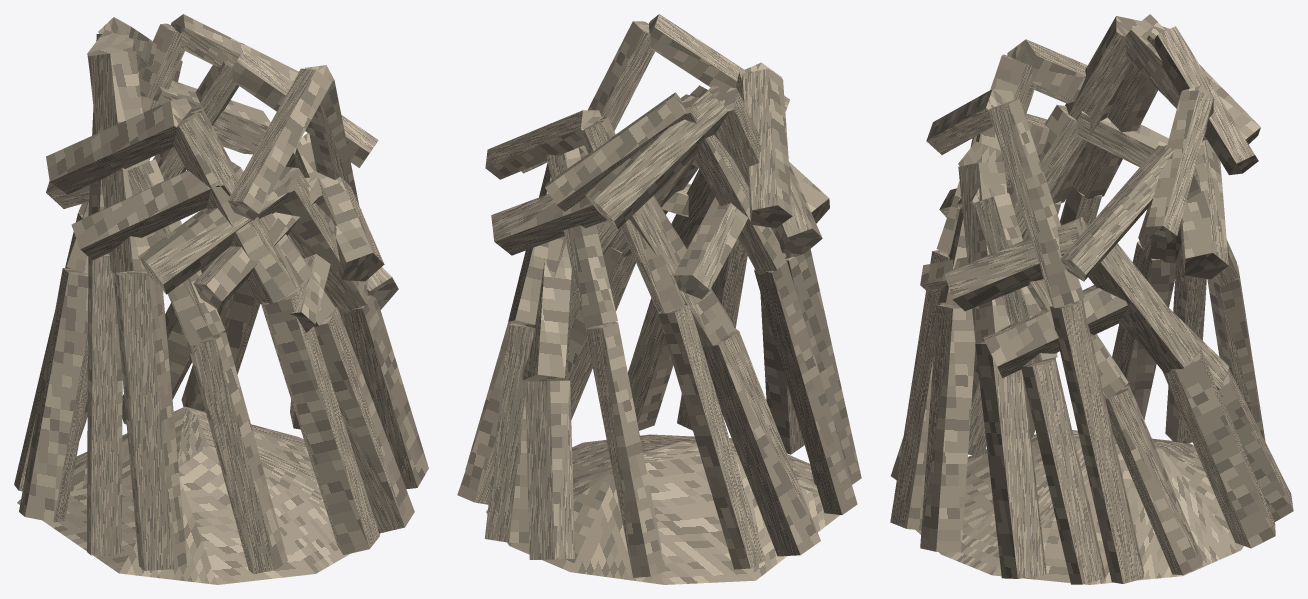
Rendered from f_fungal_tangle.glb.
3 renders of one model, left to right at view 1: azimuth 30°, elevation 25°; view 2: azimuth 150°, elevation 25°; view 3: azimuth 270°, elevation 25°, orthographic. The views are drawn at different scales.
Visible parts, largest first — view 1: block_intertwined-fungal-strand-1 (×10), block_intertwined-fungal-strand-3 (×14), block_intertwined-fungal-strand-2 (×10), block_mycelial-mat; view 2: block_intertwined-fungal-strand-1 (×13), block_intertwined-fungal-strand-3 (×10), block_intertwined-fungal-strand-2 (×10), block_mycelial-mat; view 3: block_intertwined-fungal-strand-1 (×13), block_intertwined-fungal-strand-3 (×14), block_intertwined-fungal-strand-2 (×13), block_mycelial-mat.
Boxes of the visible parts, box(x1,y1,x2,y2) form: block_intertwined-fungal-strand-1 (×10): box(14, 213, 428, 574); block_intertwined-fungal-strand-3 (×14): box(46, 14, 398, 332); block_intertwined-fungal-strand-2 (×10): box(66, 23, 368, 344); block_mycelial-mat: box(17, 406, 380, 584); block_intertwined-fungal-strand-1 (×13): box(457, 236, 861, 577); block_intertwined-fungal-strand-3 (×10): box(485, 14, 829, 299); block_intertwined-fungal-strand-2 (×10): box(508, 21, 802, 381); block_mycelial-mat: box(486, 434, 839, 584); block_intertwined-fungal-strand-1 (×13): box(890, 187, 1293, 584); block_intertwined-fungal-strand-3 (×14): box(920, 14, 1260, 378); block_intertwined-fungal-strand-2 (×13): box(936, 16, 1238, 399); block_mycelial-mat: box(915, 430, 1243, 584).
Size of the model in its own units: 0.7475 by 0.9343 by 0.7402.
1 material, 1 textured.
